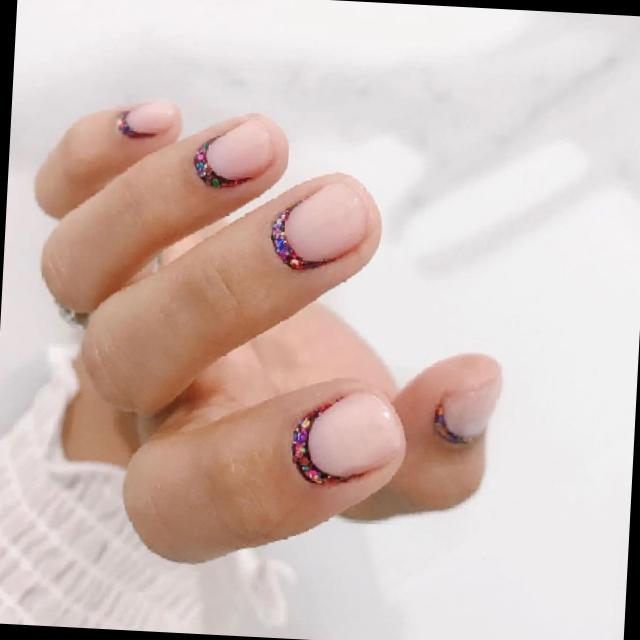Nail: (307, 392, 404, 476), (284, 182, 365, 261), (204, 117, 272, 180), (439, 378, 498, 443), (126, 102, 179, 135)
